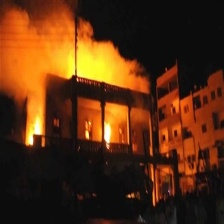fire: (98, 118, 114, 149), (26, 122, 46, 146)
smoke: (1, 1, 159, 119)
